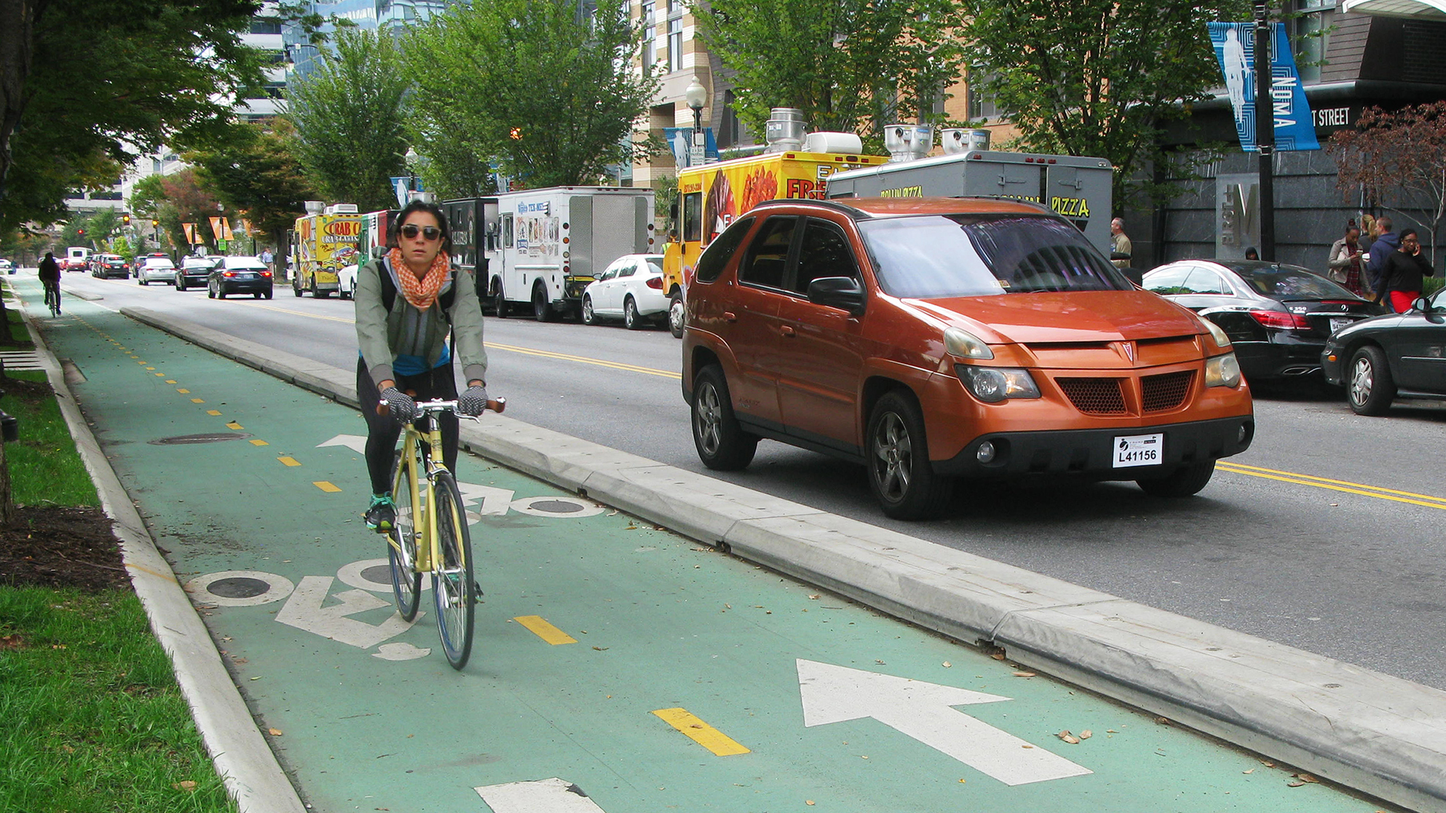Bicycle: (343, 393, 513, 665)
Car: (665, 191, 1255, 524), (1327, 290, 1446, 402), (569, 239, 678, 341), (205, 251, 277, 304), (131, 255, 182, 289)
Person: (334, 205, 498, 465), (1370, 229, 1441, 306)
Tree: (398, 16, 647, 182), (280, 25, 401, 210)
